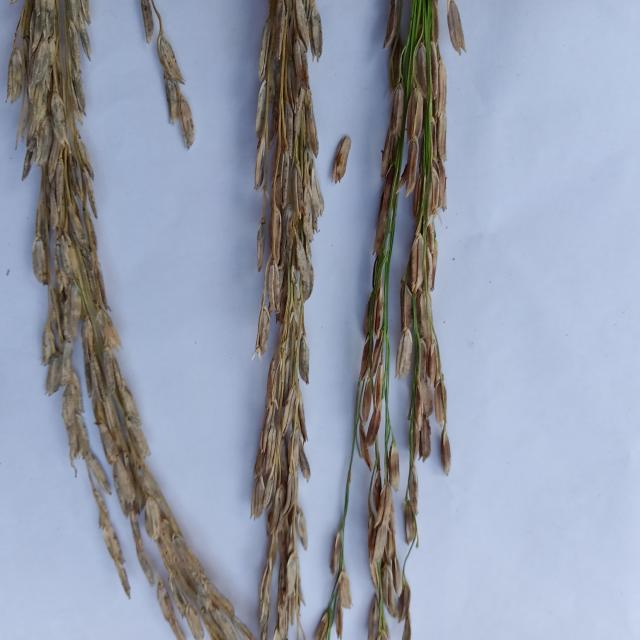Neck_Blast: (18, 6, 242, 633), (352, 1, 447, 632), (253, 1, 315, 625)
